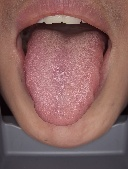tongue: (22, 35, 101, 127)
